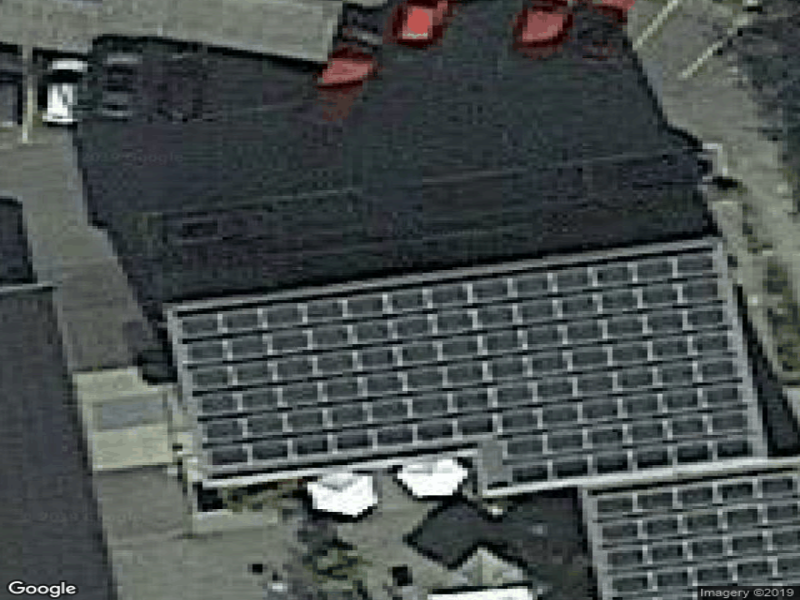pv: (182, 251, 755, 482), (594, 477, 795, 600)
